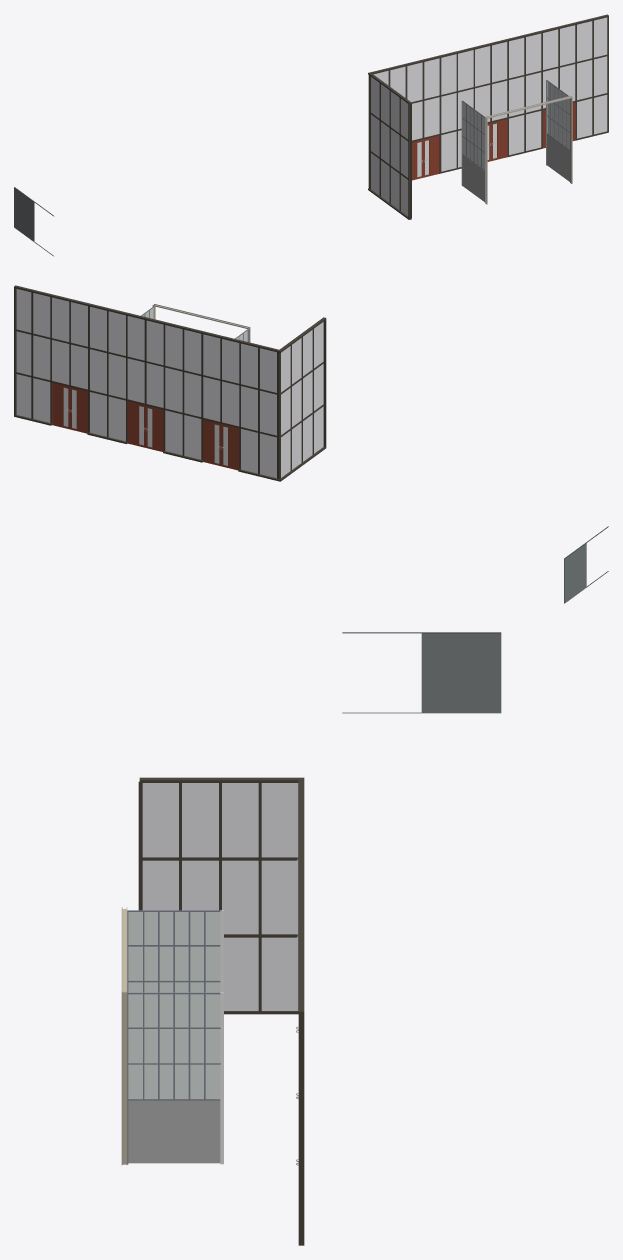
Rendered from Exterior Doors.fbx.
3 views of the same model, one above another, from view 1: azimuth 30°, elevation 25°; view 2: azimuth 150°, elevation 25°; view 3: azimuth 270°, elevation 25° (orthographic). The views are drawn at different scales.
Visible parts, largest first — view 1: Fer_5, Vitrage_5, PORTE_001, Body_2682, PORTE_003_1, Body_2684, PANNEAU_MR_PRINCIPAL_340_2, PANNEAU_MR_PRINCIPAL_311, PANNEAU_MR_PRINCIPAL_312, PANNEAU_MR_PRINCIPAL_319, PANNEAU_MR_PRINCIPAL_313, PANNEAU_MR_PRINCIPAL_316 (+22 smaller); view 2: Body_2684, Body_2682, Body_2686, PORTE_001, PANNEAU_MR_PRINCIPAL_299, PANNEAU_MR_PRINCIPAL_302, PANNEAU_MR_PRINCIPAL_306, PANNEAU_MR_PRINCIPAL_285, PANNEAU_MR_PRINCIPAL_301, PANNEAU_MR_PRINCIPAL_340_1, PANNEAU_MR_PRINCIPAL_284, PANNEAU_MR_PRINCIPAL_288 (+28 smaller); view 3: Vitrage_5, Fer_5, PORTE_001, PANNEAU_MR_PRINCIPAL_344, PANNEAU_MR_PRINCIPAL_342, PANNEAU_MR_PRINCIPAL_343, PANNEAU_MR_PRINCIPAL_330, PANNEAU_MR_PRINCIPAL_333, PANNEAU_MR_PRINCIPAL_327, PANNEAU_MR_PRINCIPAL_332, PANNEAU_MR_PRINCIPAL_331, PANNEAU_MR_PRINCIPAL_329 (+2 smaller).
Boxes of the visible parts, x1,y1,x2,y2 form: Fer_5: (461,79,570,201); Vitrage_5: (462,81,569,169); PORTE_001: (14,187,54,256); Body_2682: (412,135,439,180); PORTE_003_1: (485,96,572,204); Body_2684: (487,119,507,161); PANNEAU_MR_PRINCIPAL_340_2: (475,46,490,86); PANNEAU_MR_PRINCIPAL_311: (424,58,439,98); PANNEAU_MR_PRINCIPAL_312: (441,54,456,94); PANNEAU_MR_PRINCIPAL_319: (560,25,575,65); PANNEAU_MR_PRINCIPAL_313: (458,50,473,90); PANNEAU_MR_PRINCIPAL_316: (509,37,524,78); Body_2684: (127,401,163,451); Body_2682: (203,419,239,470); Body_2686: (52,382,87,433); PORTE_001: (564,526,608,603); PANNEAU_MR_PRINCIPAL_299: (165,367,182,412); PANNEAU_MR_PRINCIPAL_302: (108,354,125,398); PANNEAU_MR_PRINCIPAL_306: (33,335,50,379); PANNEAU_MR_PRINCIPAL_285: (165,410,182,455); PANNEAU_MR_PRINCIPAL_301: (127,358,144,403); PANNEAU_MR_PRINCIPAL_340_1: (146,363,163,407); PANNEAU_MR_PRINCIPAL_284: (184,415,201,459); PANNEAU_MR_PRINCIPAL_288: (108,396,125,441); Vitrage_5: (128,912,220,1098); Fer_5: (127,910,223,1164); PORTE_001: (342,632,501,713); PANNEAU_MR_PRINCIPAL_344: (261,859,298,934); PANNEAU_MR_PRINCIPAL_342: (261,783,298,857); PANNEAU_MR_PRINCIPAL_343: (261,936,298,1010); PANNEAU_MR_PRINCIPAL_330: (182,783,218,857); PANNEAU_MR_PRINCIPAL_333: (222,783,258,857); PANNEAU_MR_PRINCIPAL_327: (142,783,178,857); PANNEAU_MR_PRINCIPAL_332: (222,860,258,934); PANNEAU_MR_PRINCIPAL_331: (224,937,258,1010); PANNEAU_MR_PRINCIPAL_329: (182,860,218,910).
Bounding box in the file's own units: 3261 × 670 × 984.
